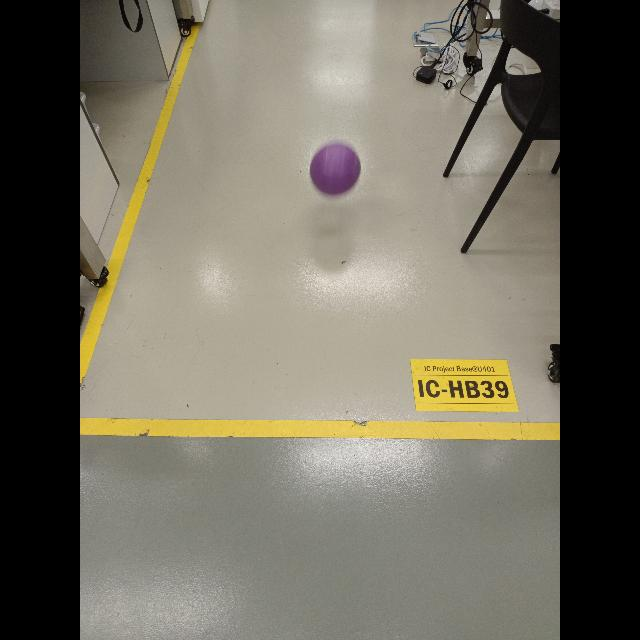P: (310, 140, 360, 196)
